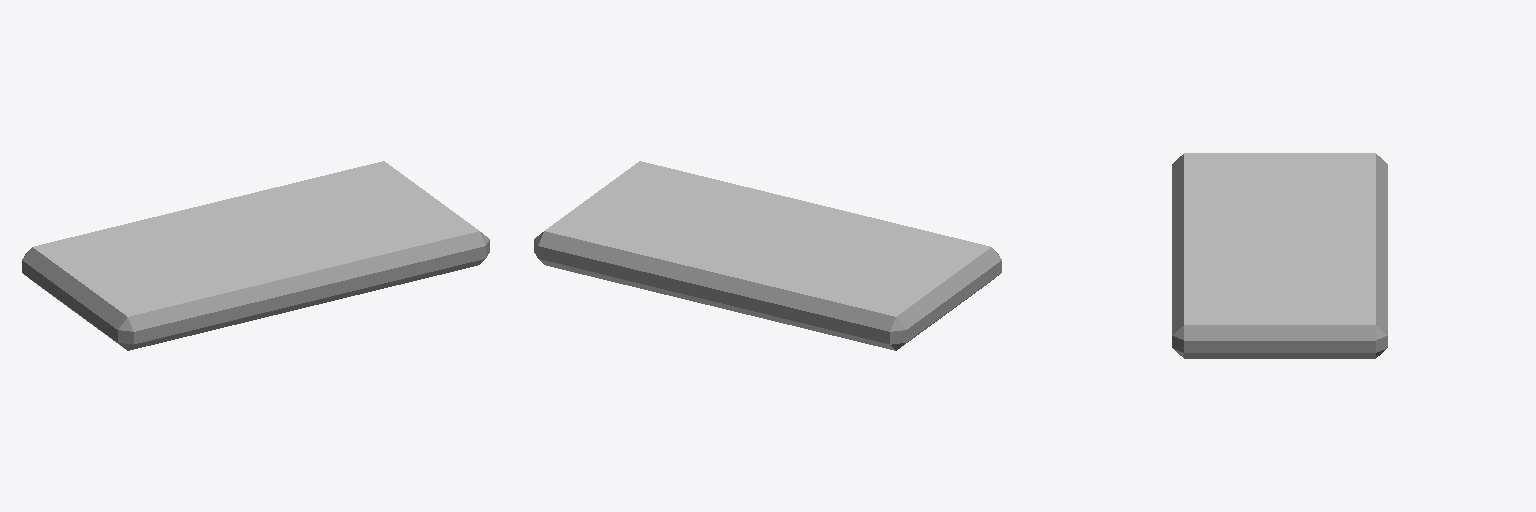
File: thin-middle.obj
3 renders of one model, left to right at view 1: azimuth 30°, elevation 25°; view 2: azimuth 150°, elevation 25°; view 3: azimuth 270°, elevation 25°, orthographic.
Visible parts, largest first — view 1: thin-medium; view 2: thin-medium; view 3: thin-medium.
Part boxes in pixels (bbox=[...]): thin-medium: bbox=[22, 161, 489, 350]; thin-medium: bbox=[534, 161, 1001, 350]; thin-medium: bbox=[1172, 153, 1387, 358].
Bounding box in the file's own units: 4 × 0.35 × 2.